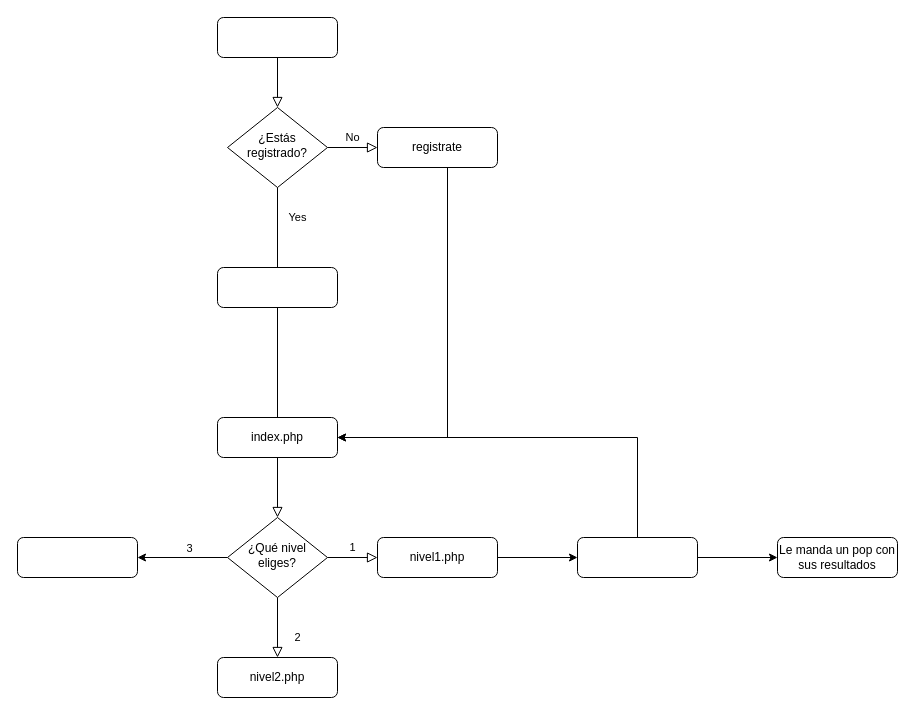
Some shapes in this 915 by 715 pixel diagram are drawn without their labels. Each missing label, with the centre of its shape:
Acaba examen: point 637,557
Comienzo: point 277,37
login.php: point 277,287
nivel3.php: point 77,557
